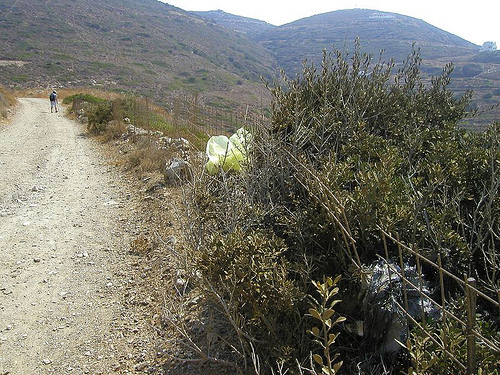litter: (205, 127, 251, 173)
